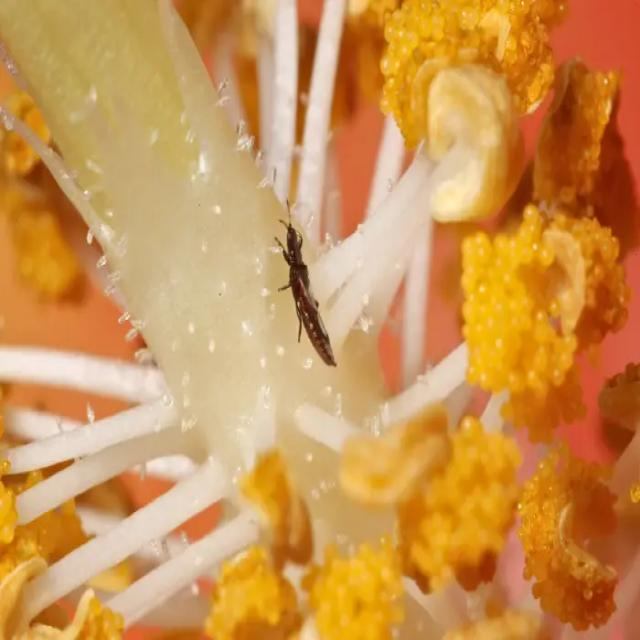Thrip-Adult-: (272, 183, 353, 384)
